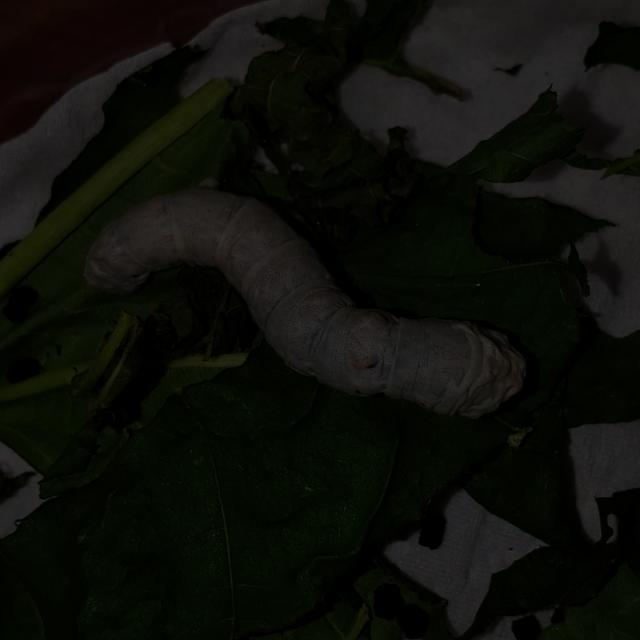Healthy: (57, 162, 547, 446)
